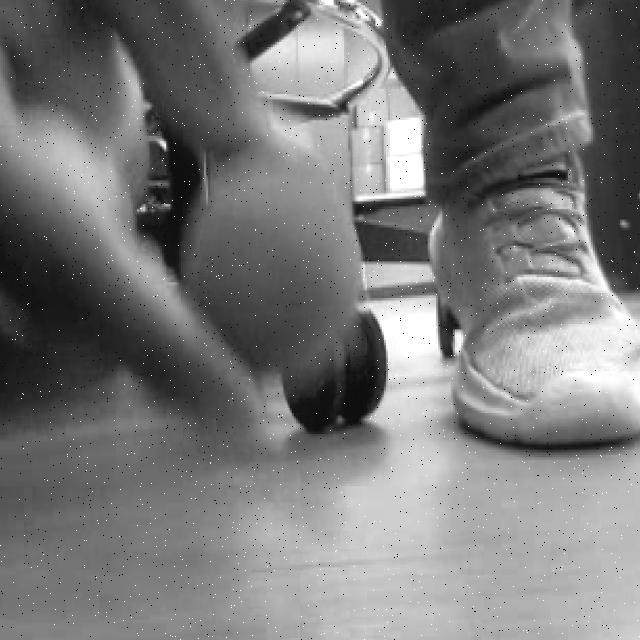ping-pong-ball: (178, 136, 364, 388)
